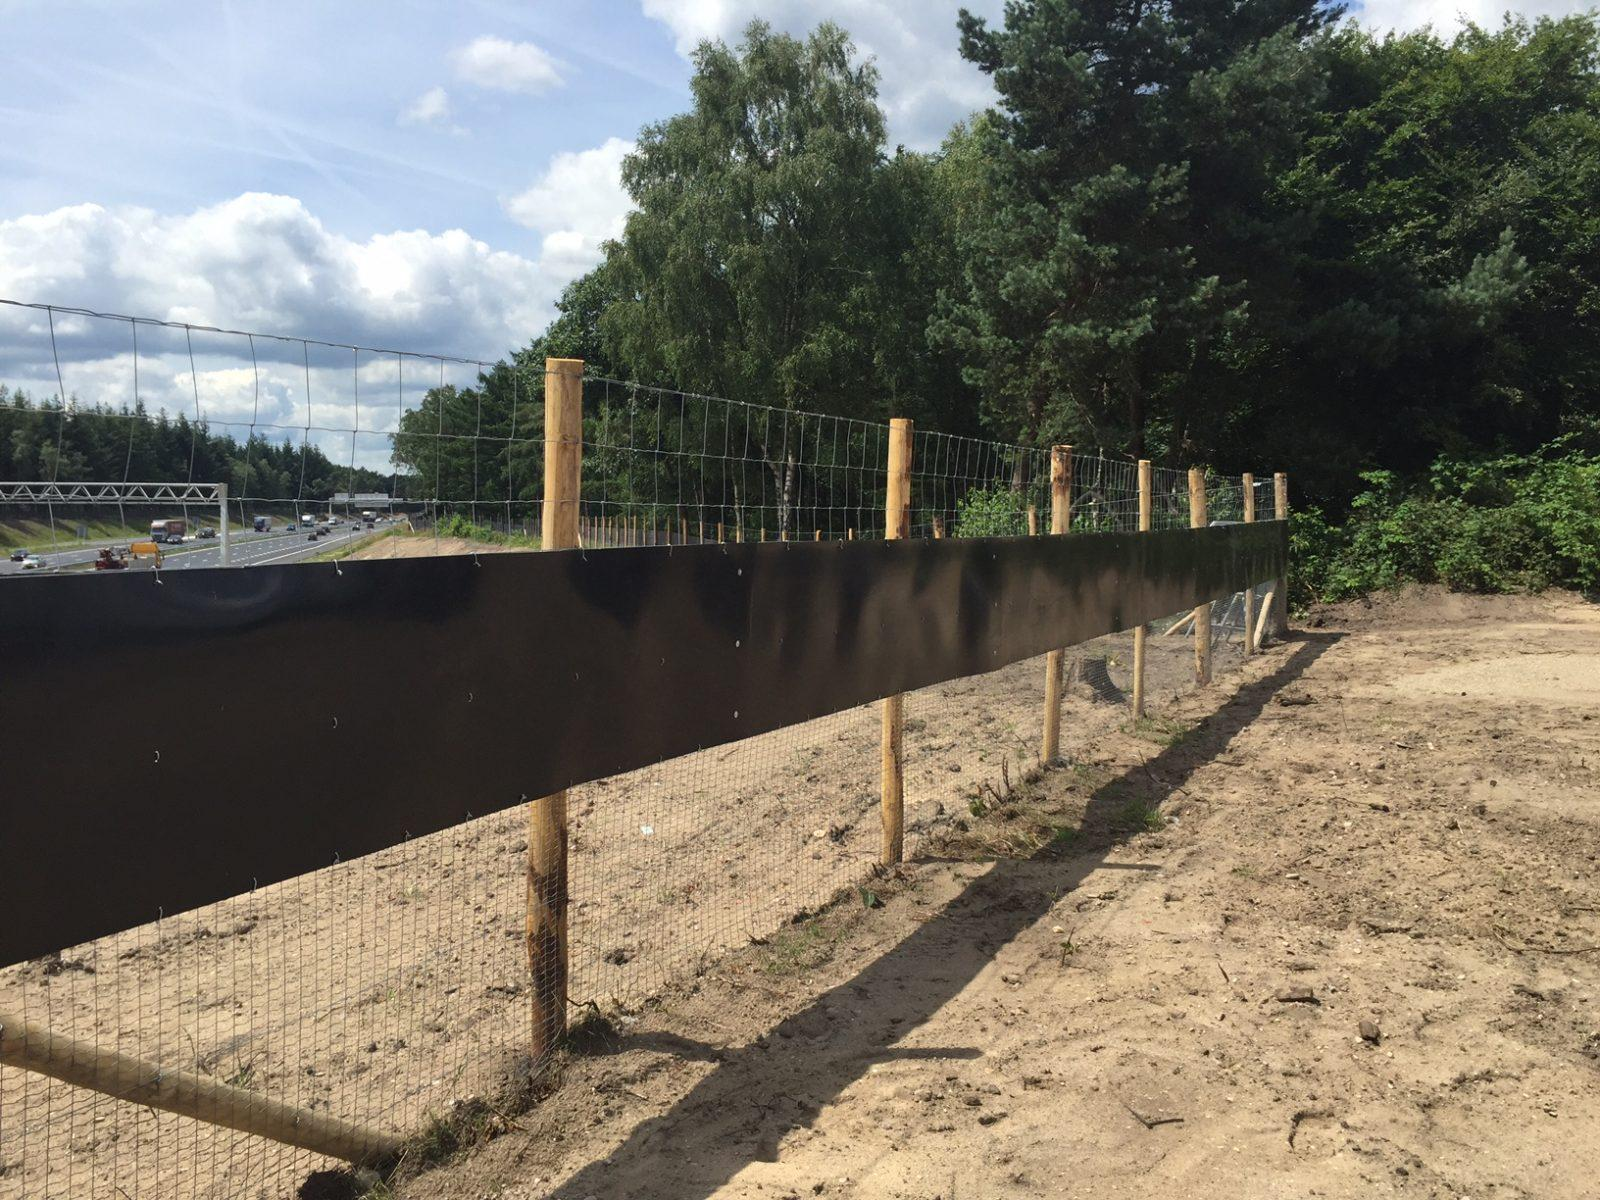obstacle: (175, 3, 978, 1195)
